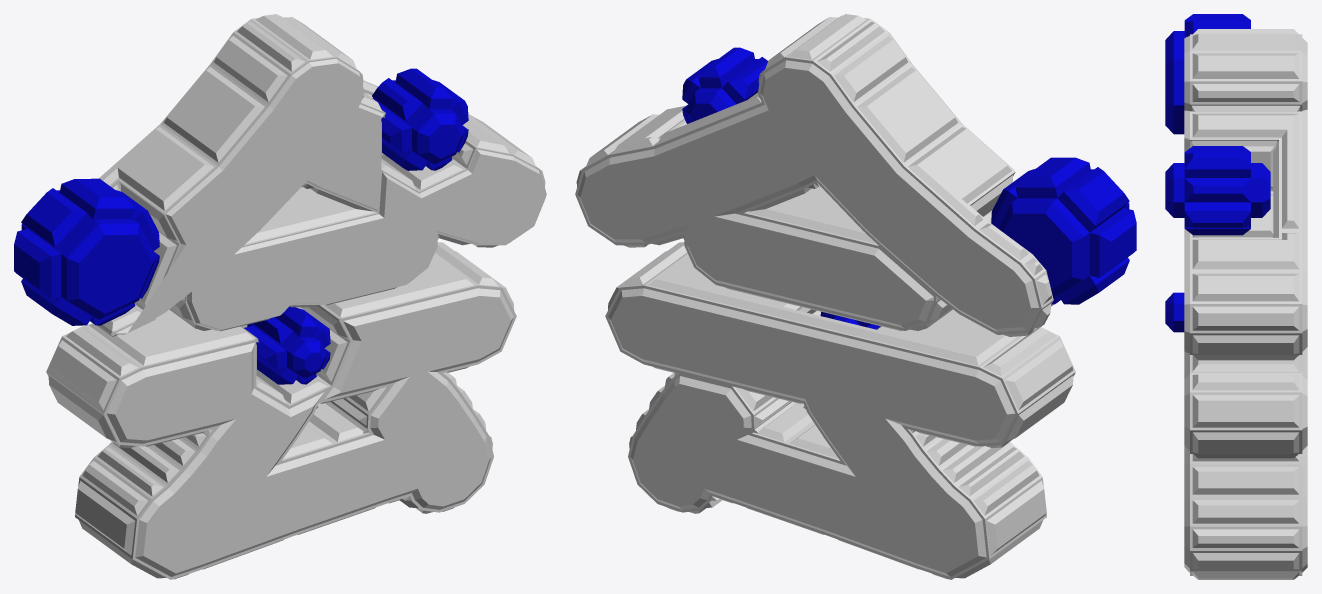
File: Ch_China_会_01.fbx
The picture shows the model from 3 angles, left to right: view 1: azimuth 30°, elevation 25°; view 2: azimuth 150°, elevation 25°; view 3: azimuth 270°, elevation 25°; orthographic projection. The views are drawn at different scales.
Visible parts, largest first — view 1: sphere1; view 2: sphere1; view 3: sphere1.
Part boxes in pixels (x1,y1,x2,y2): sphere1: [14, 14, 546, 579]; sphere1: [575, 14, 1136, 579]; sphere1: [1165, 14, 1307, 579].
Bounding box in the file's own units: 1.02 × 0.9443 × 0.2541.
